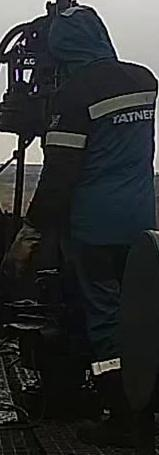gloves: (0, 218, 43, 278)
vest: (44, 61, 159, 249)
